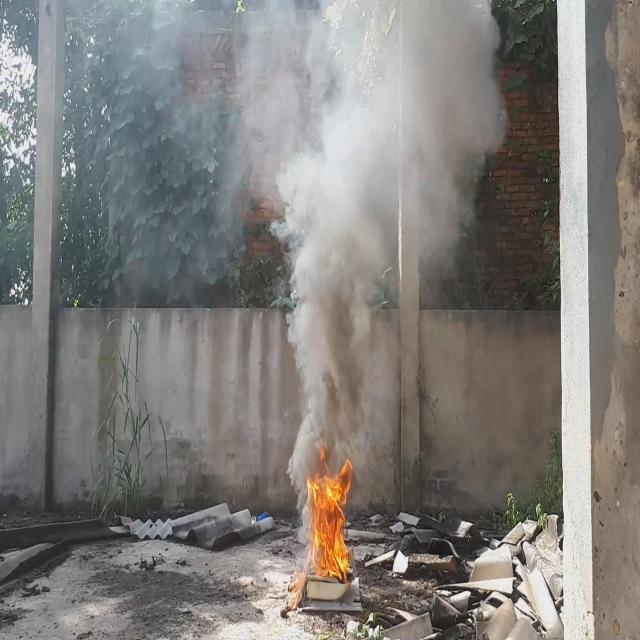Fire: (306, 447, 354, 582)
Smoke: (77, 0, 507, 507)
